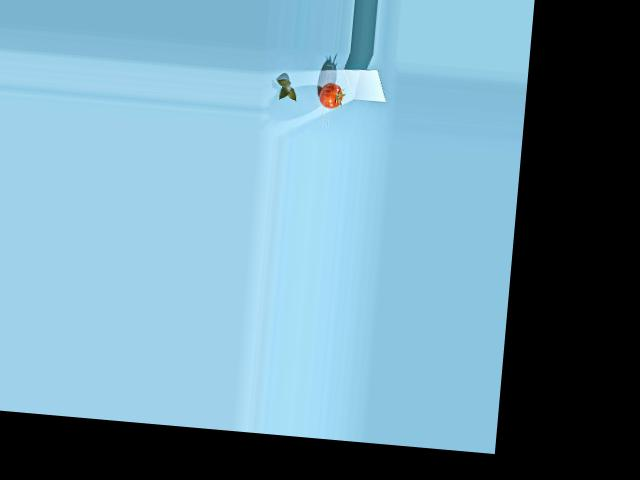tomato: (318, 81, 344, 109)
